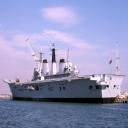Portanaves: (4, 47, 128, 106)
